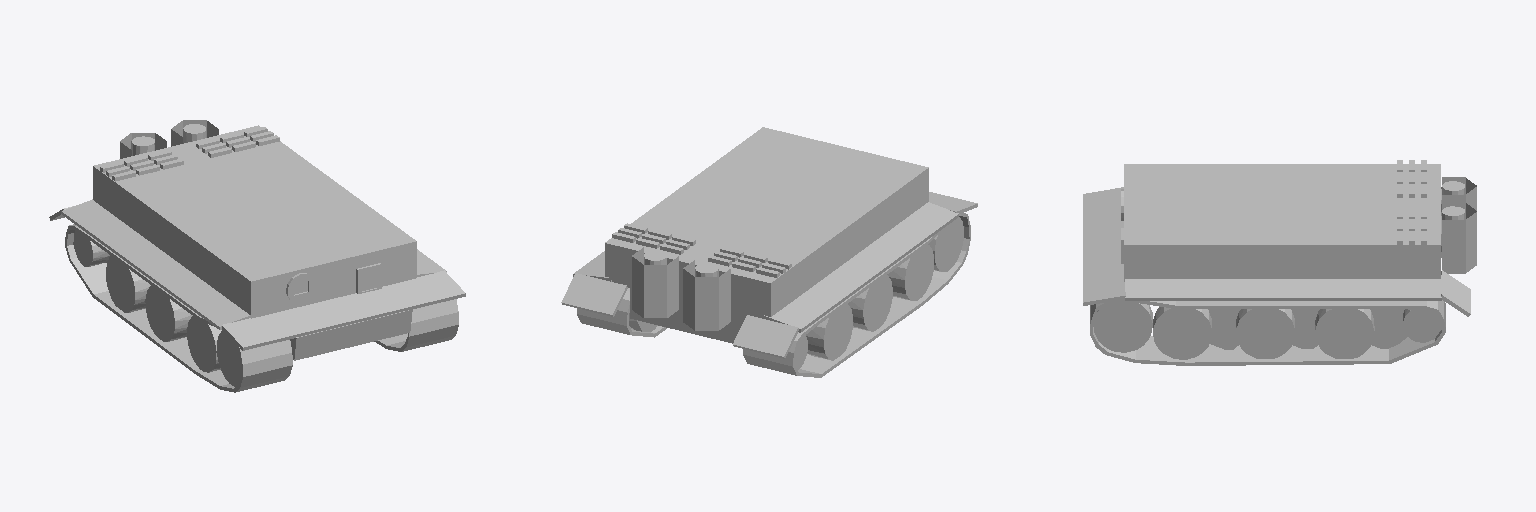
Rendered from TankBody.obj.
3 renders of one model, left to right at view 1: azimuth 30°, elevation 25°; view 2: azimuth 150°, elevation 25°; view 3: azimuth 270°, elevation 25°, orthographic.
Visible parts, largest first — view 1: 立方体_立方体.003, pパネル_立方体.002, 立方体.159_立方体.002, 立方体.101_立方体.013_立方体.101_立方体.006, 立方体.169_立方体.002, 立方体.101_立方体.013_立方体.101_立方体.005, 履帯01.012_円柱.002, 履帯01.009_円柱.002, 履帯01.013_円柱.002, 履帯01.010_円柱.002, 履帯01.015_円柱.006, 円柱.004_円柱.003; view 2: 立方体_立方体.003, 立方体.159_立方体.002, 立方体.101_立方体.013_立方体.101_立方体.006, 円柱.002_円柱.002, 円柱.003_円柱.003, 立方体.169_立方体.002, pパネル.001_立方体.002, pパネル.002_立方体.002, 履帯01.009_円柱.002, 履帯01.013_円柱.002, 履帯01.012_円柱.002, 履帯01.010_円柱.002 (+2 smaller); view 3: 立方体_立方体.003, 立方体.101_立方体.013_立方体.101_立方体.005, 立方体.160_立方体.002, pパネル_立方体.002, 履帯01.005_円柱.002, 履帯01.001_円柱.003, 履帯01.004_円柱.003, 履帯01.002_円柱.003, 円柱.003_円柱.003, 立方体.169_立方体.002, 履帯01.006_円柱.002, 履帯01.007_円柱.003 (+4 smaller).
Part boxes in pixels (bbox=[...]): 立方体_立方体.003: bbox=[93, 125, 416, 360]; pパネル_立方体.002: bbox=[222, 270, 465, 350]; 立方体.159_立方体.002: bbox=[61, 199, 250, 329]; 立方体.101_立方体.013_立方体.101_立方体.006: bbox=[65, 224, 292, 392]; 立方体.169_立方体.002: bbox=[100, 127, 279, 181]; 立方体.101_立方体.013_立方体.101_立方体.005: bbox=[374, 299, 458, 351]; 履帯01.012_円柱.002: bbox=[145, 285, 192, 341]; 履帯01.009_円柱.002: bbox=[106, 256, 150, 312]; 履帯01.013_円柱.002: bbox=[187, 316, 221, 372]; 履帯01.010_円柱.002: bbox=[217, 330, 241, 386]; 履帯01.015_円柱.006: bbox=[73, 231, 109, 266]; 円柱.004_円柱.003: bbox=[286, 273, 314, 302]; 立方体_立方体.003: bbox=[605, 127, 928, 343]; 立方体.159_立方体.002: bbox=[763, 202, 958, 332]; 立方体.101_立方体.013_立方体.101_立方体.006: bbox=[743, 213, 970, 377]; 円柱.002_円柱.002: bbox=[683, 260, 730, 330]; 円柱.003_円柱.003: bbox=[632, 247, 678, 317]; 立方体.169_立方体.002: bbox=[612, 223, 791, 277]; pパネル.001_立方体.002: bbox=[733, 315, 798, 358]; pパネル.002_立方体.002: bbox=[561, 273, 627, 316]; 履帯01.009_円柱.002: bbox=[806, 304, 852, 360]; 履帯01.013_円柱.002: bbox=[887, 245, 933, 300]; 履帯01.012_円柱.002: bbox=[848, 275, 892, 331]; 履帯01.010_円柱.002: bbox=[928, 217, 963, 271]; 立方体_立方体.003: bbox=[1124, 164, 1440, 281]; 立方体.101_立方体.013_立方体.101_立方体.005: bbox=[1090, 299, 1445, 365]; 立方体.160_立方体.002: bbox=[1125, 275, 1441, 300]; pパネル_立方体.002: bbox=[1083, 187, 1125, 305]; 履帯01.005_円柱.002: bbox=[1153, 307, 1211, 359]; 履帯01.001_円柱.003: bbox=[1315, 309, 1374, 358]; 履帯01.004_円柱.003: bbox=[1236, 309, 1294, 358]; 履帯01.002_円柱.003: bbox=[1094, 302, 1152, 352]; 円柱.003_円柱.003: bbox=[1442, 203, 1476, 273]; 立方体.169_立方体.002: bbox=[1397, 160, 1426, 244]; 履帯01.006_円柱.002: bbox=[1370, 309, 1407, 348]; 履帯01.007_円柱.003: bbox=[1403, 309, 1441, 342].
Size of the model in its own units: 6.65 by 3.2 by 9.97.